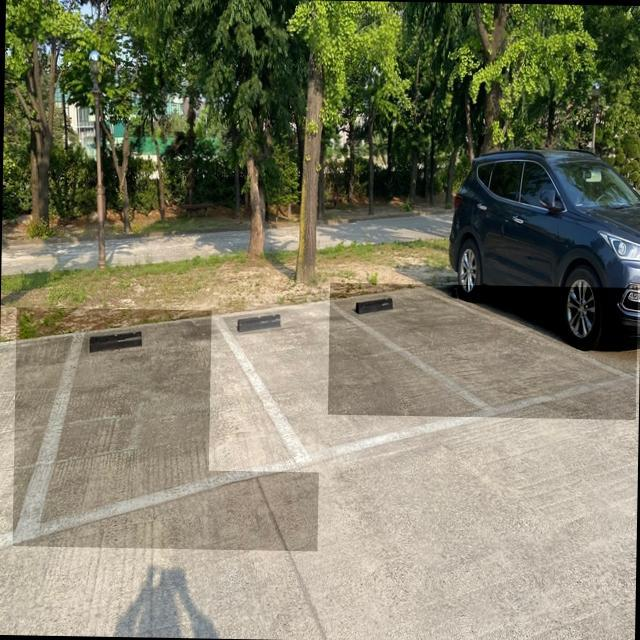empty: (13, 311, 319, 546), (211, 294, 501, 472), (329, 284, 636, 417)
